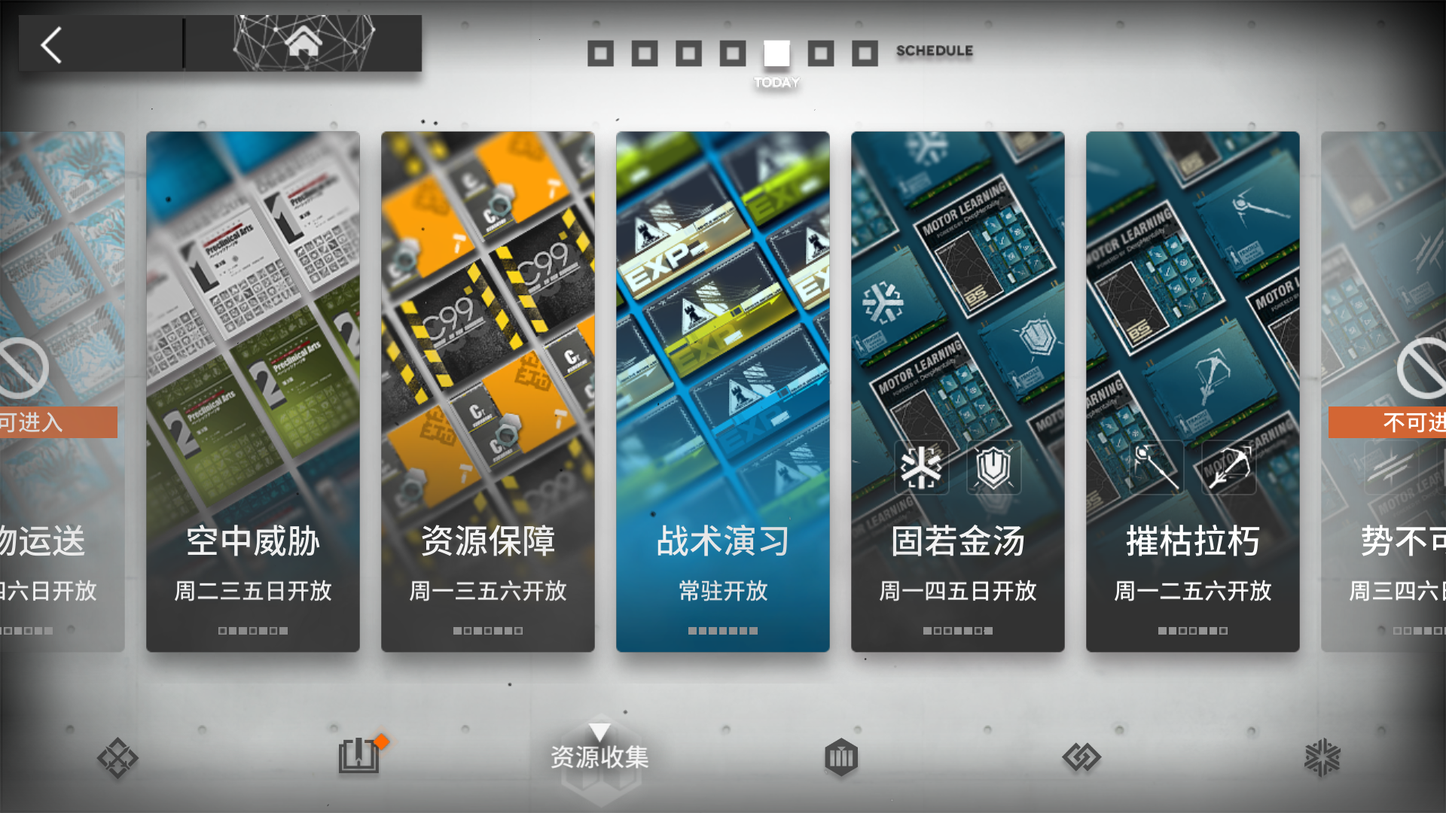Return_Button: (21, 14, 167, 70)
tactical_maneuver_button: (613, 135, 820, 650)
